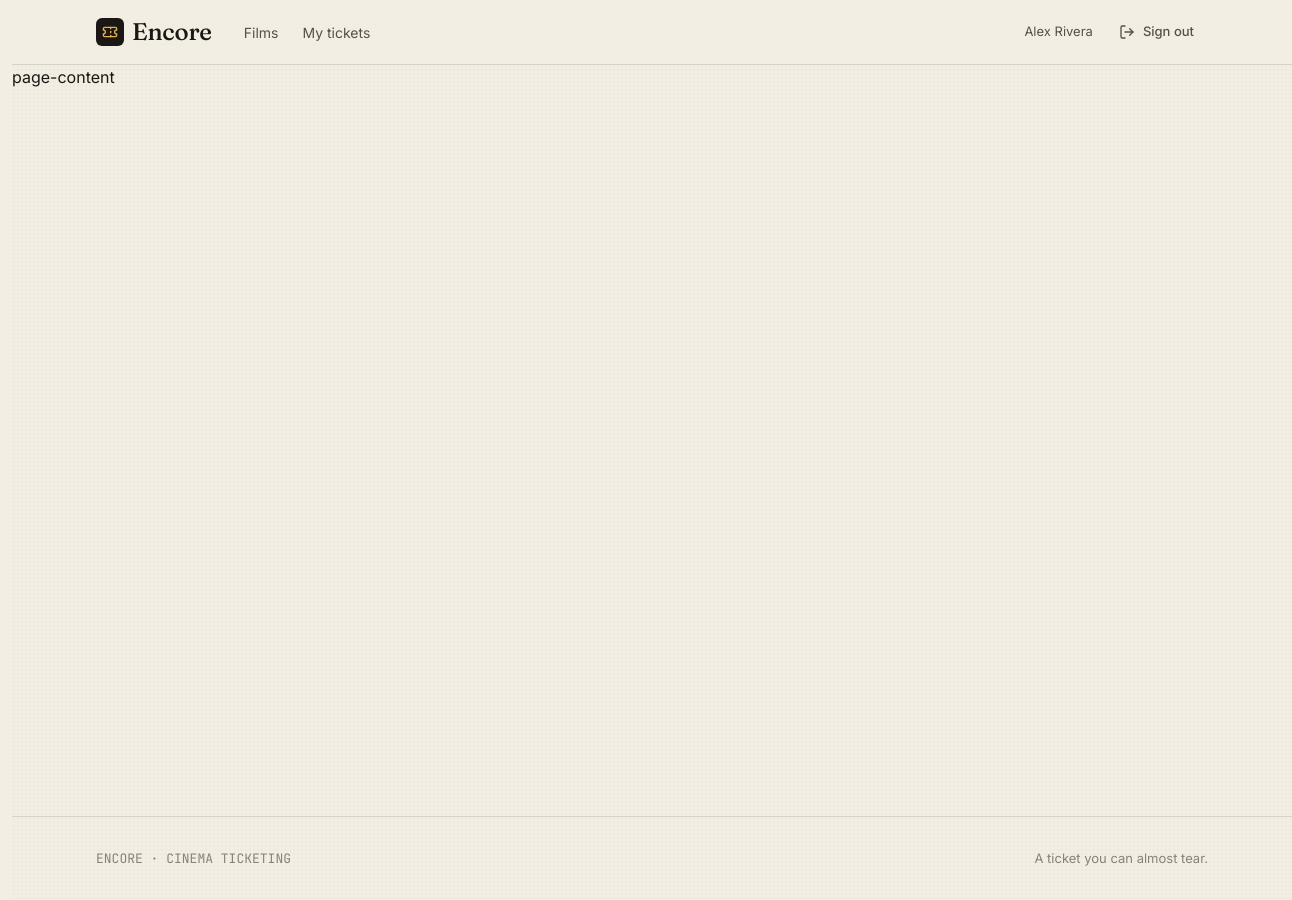
Scenario: AppShell › shows a "Sign in" link when signed out, and shows the user + sign out when signed in
Expected: the link "Alex Rivera" is shown, [1024,22,1093,42]
Click the button "Sign out". click: [1156, 32]
box: [1105,16,1208,48]
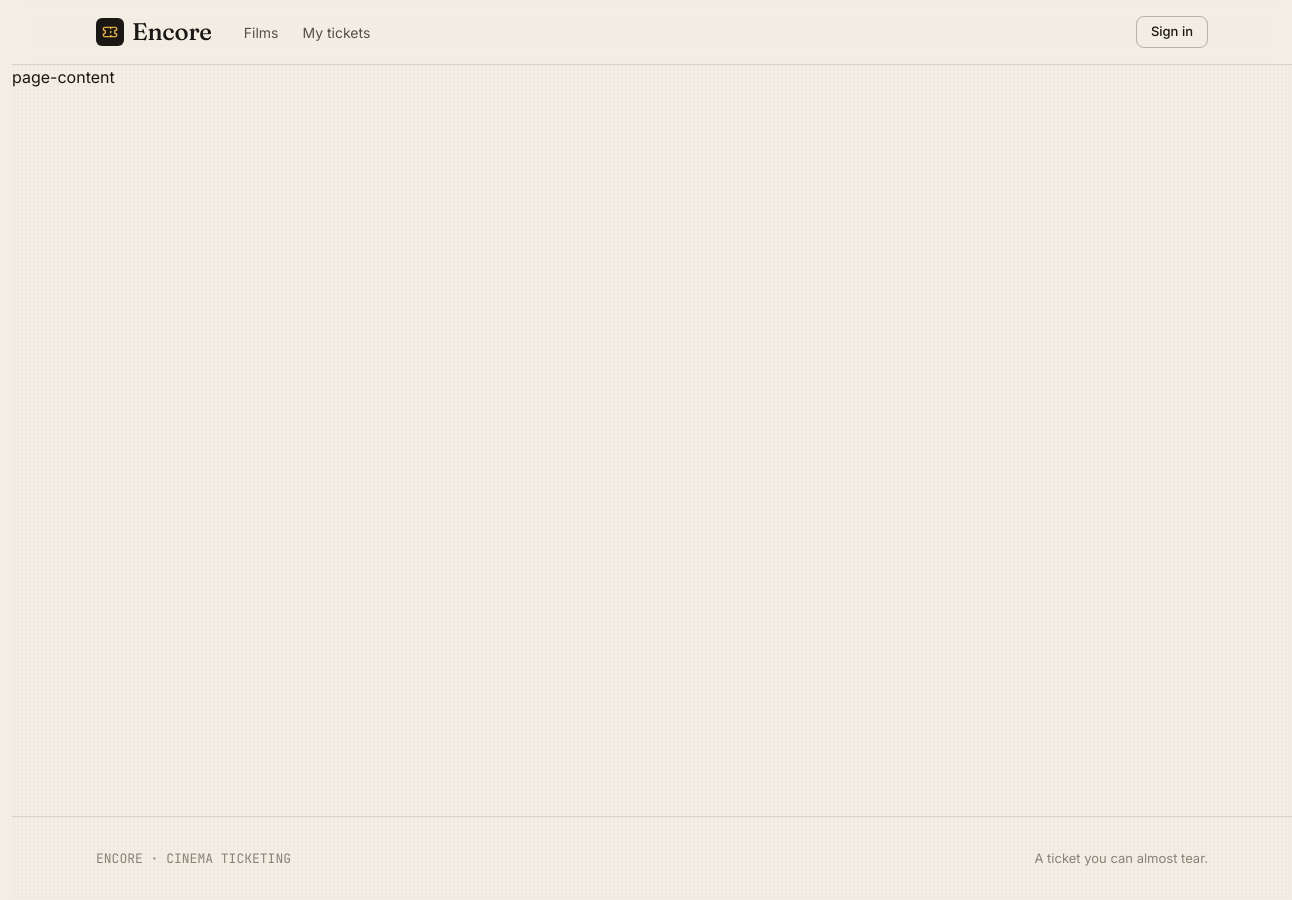
Result: the button "Sign in" is shown at [1136,16,1208,48]
